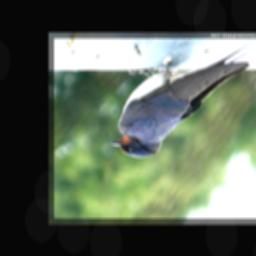Swallow: (109, 33, 256, 158)
